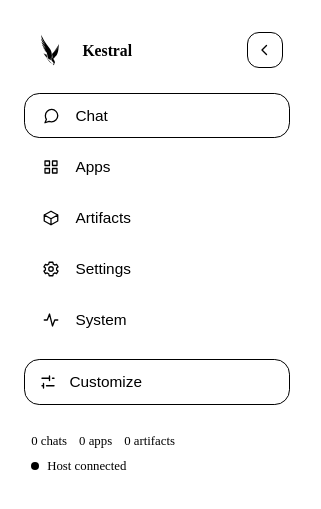
Test: AppSidebar › lets the user collapse and expand the navigation without hiding its destinations
Click the button named "Collapse navigation": [265, 50] box x1=247 y1=32 x2=283 y2=68
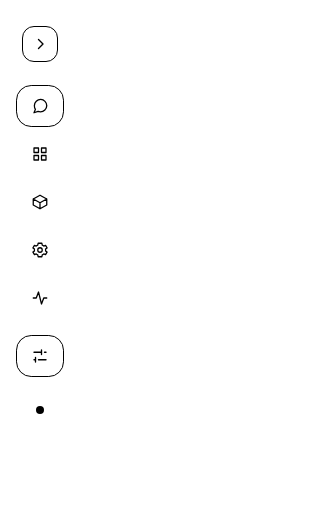
Expected: the element named "App navigation" has class "collapsed", x1=8 y1=8 x2=72 y2=429
Click the button named "Expand navigation": [40, 44] box x1=22 y1=26 x2=58 y2=62
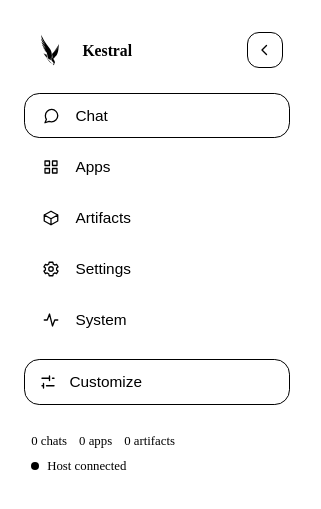
Expected: the button named "Collapse navigation" is shown, x1=247 y1=32 x2=283 y2=68
